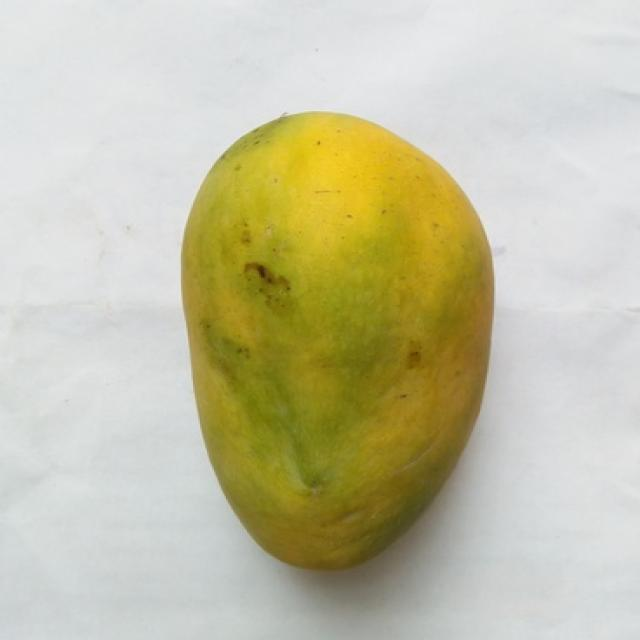Mango: (183, 113, 492, 567)
